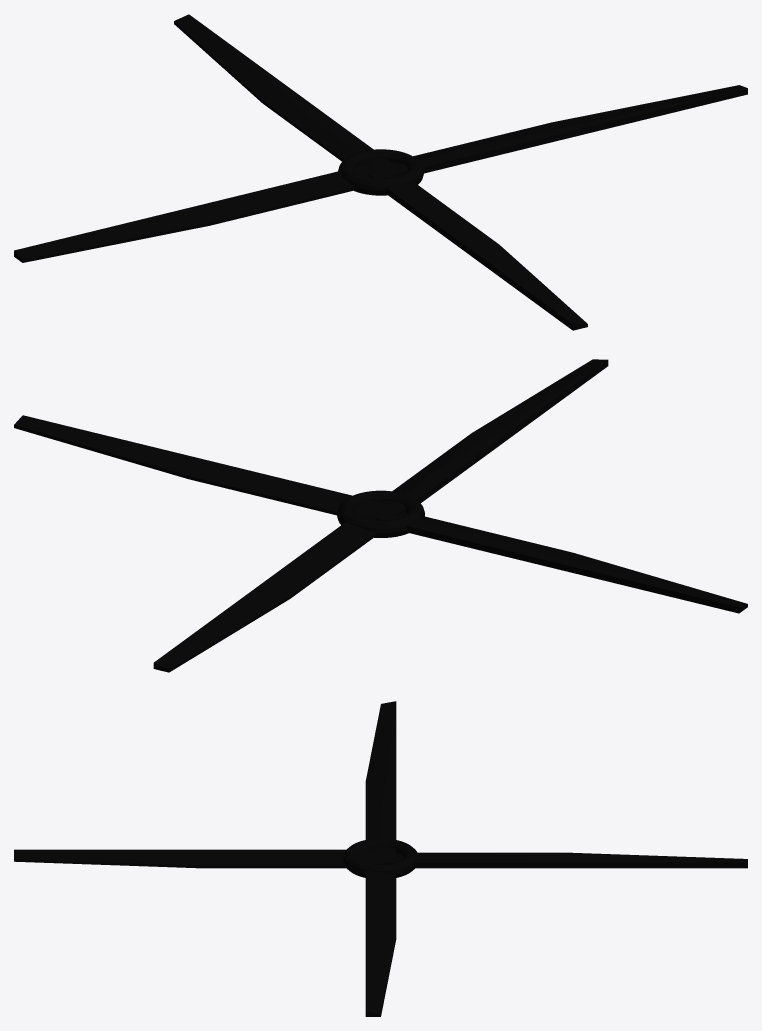
Rendered from Heli_propeller.obj.
The picture shows the model from 3 angles, top to bottom: view 1: azimuth 30°, elevation 25°; view 2: azimuth 150°, elevation 25°; view 3: azimuth 270°, elevation 25°; orthographic projection. The views are drawn at different scales.
Parts seen in each view (by area): view 1: 立方体.004_立方体.006; view 2: 立方体.004_立方体.006; view 3: 立方体.004_立方体.006.
Part boxes in pixels (box(x1,y1,x2,y2)): 立方体.004_立方体.006: box(14, 14, 747, 330); 立方体.004_立方体.006: box(14, 359, 747, 672); 立方体.004_立方体.006: box(14, 701, 747, 1016).
Bounding box in the file's own units: 12 × 0.25 × 12.
1 material, 1 textured.
